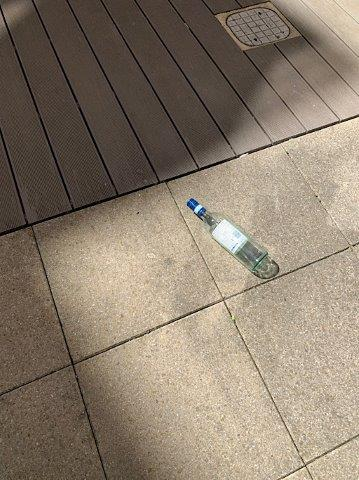botolkaca: (187, 197, 271, 276)
